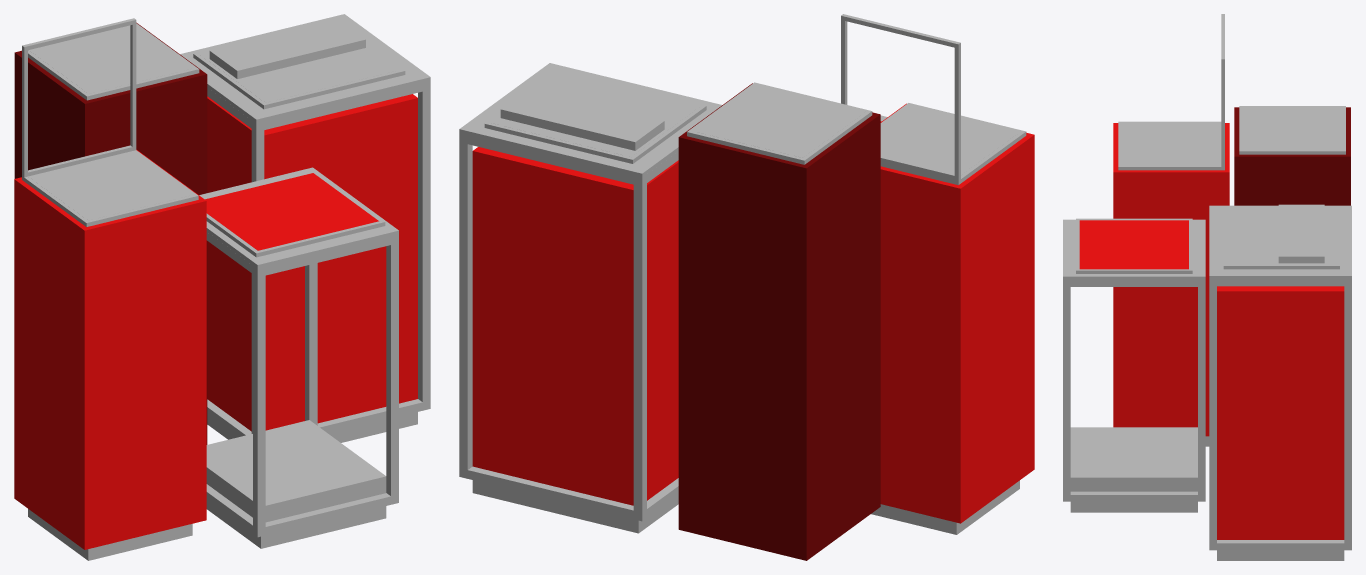
The model's file is CN Global Counter_Front_Desk.FBX.
3 views of the same model, side by side, from view 1: azimuth 30°, elevation 25°; view 2: azimuth 150°, elevation 25°; view 3: azimuth 270°, elevation 25° (orthographic). The views are drawn at different scales.
Parts seen in each view (by area): view 1: CN Global Counter_Front_Desk; view 2: CN Global Counter_Front_Desk; view 3: CN Global Counter_Front_Desk.
Part boxes in pixels (x1,y1,x2,y2): CN Global Counter_Front_Desk: (14, 14, 430, 560); CN Global Counter_Front_Desk: (459, 14, 1034, 560); CN Global Counter_Front_Desk: (1063, 14, 1351, 560).
Size of the model in its own units: 52.52 by 58.42 by 39.32.
